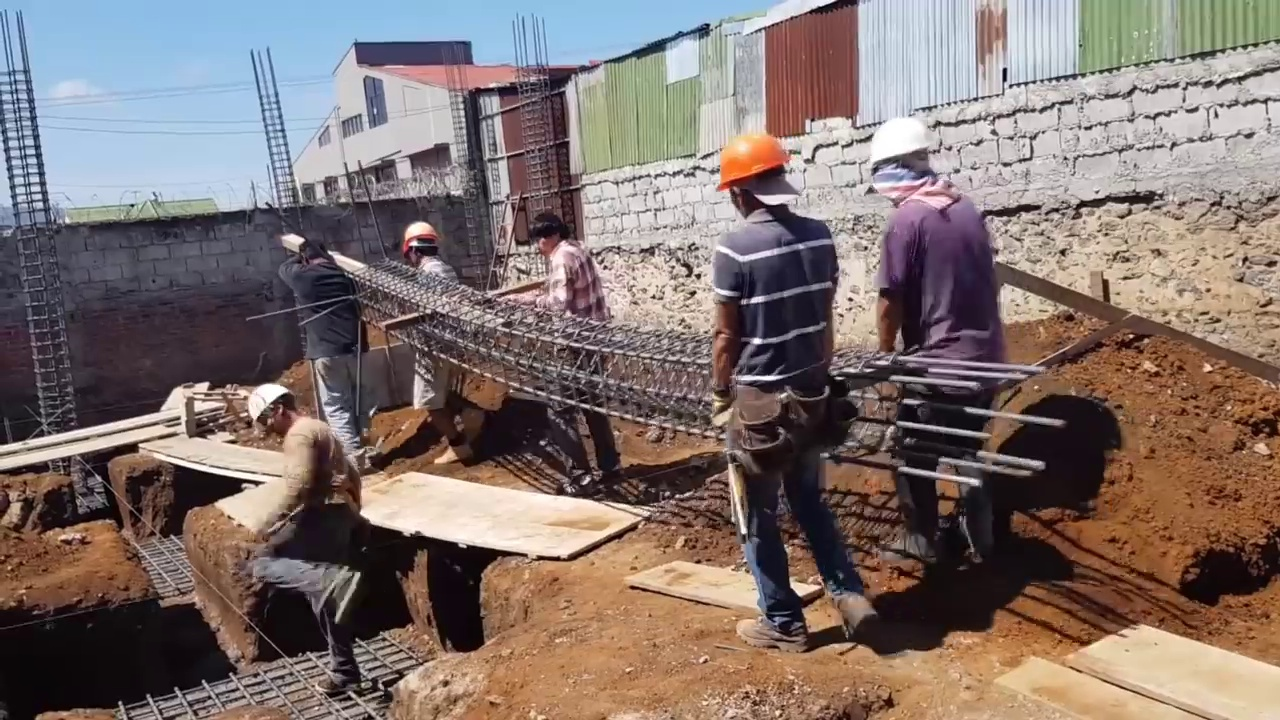helmet: (716, 133, 792, 192), (865, 114, 937, 167), (247, 381, 293, 426), (402, 222, 438, 253)
helmet-off: (529, 210, 569, 256), (298, 237, 331, 272)
helmet-on: (716, 132, 797, 220), (865, 112, 938, 197), (246, 379, 303, 439), (403, 219, 441, 267)
person: (712, 130, 888, 660), (866, 109, 1006, 569), (244, 379, 365, 616), (529, 209, 626, 495), (279, 235, 366, 477), (403, 219, 474, 467)
